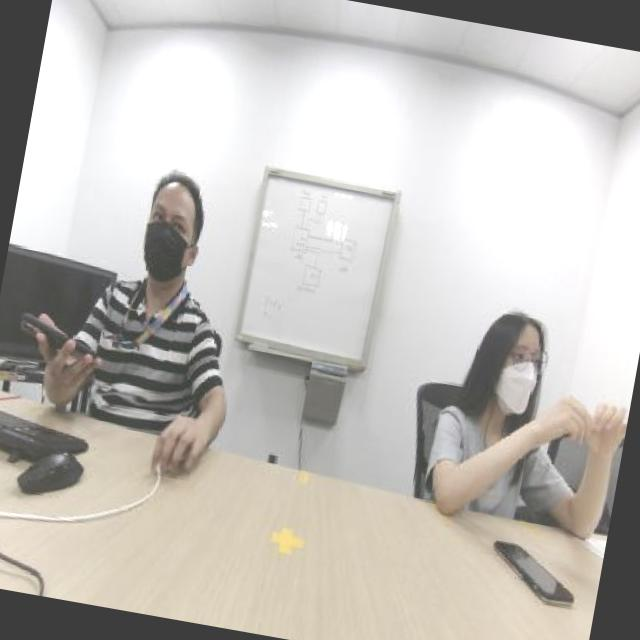Person: (401, 214, 628, 542), (94, 142, 260, 439)
